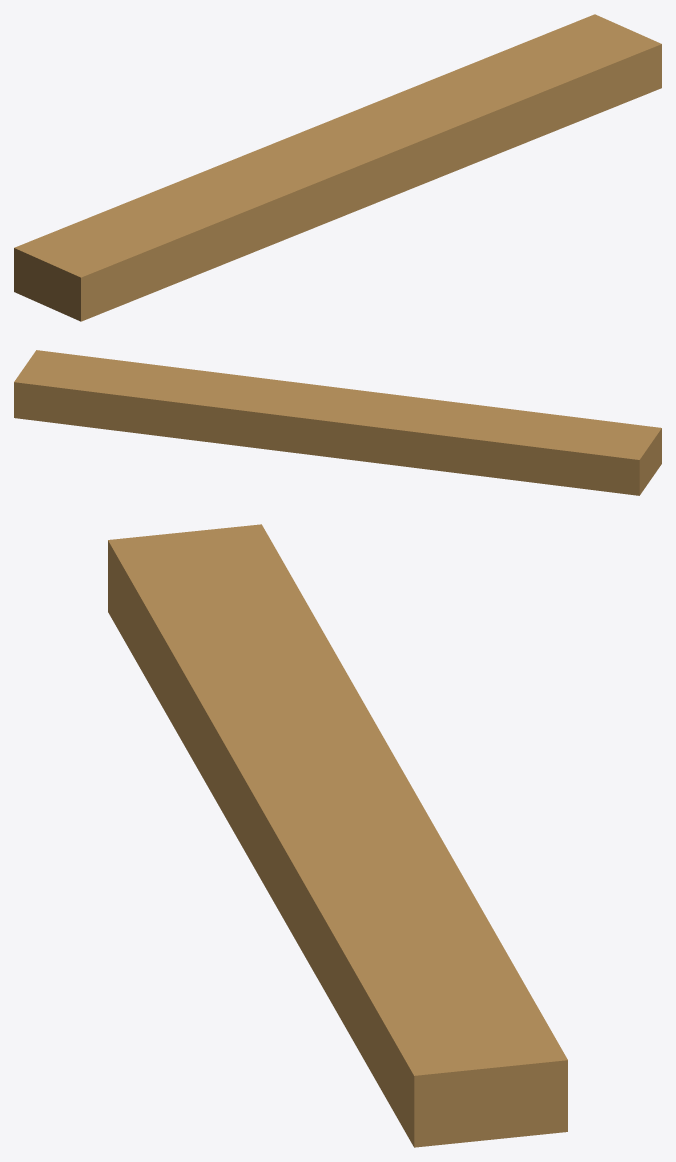
The picture shows the model from 3 angles, top to bottom: view 1: azimuth 30°, elevation 25°; view 2: azimuth 150°, elevation 25°; view 3: azimuth 270°, elevation 25°; orthographic projection. The views are drawn at different scales.
Visible parts, largest first — view 1: __delivery_mesh_5218; view 2: __delivery_mesh_5218; view 3: __delivery_mesh_5218.
Part boxes in pixels (x1,y1,x2,y2): __delivery_mesh_5218: (14, 14, 661, 321); __delivery_mesh_5218: (14, 350, 661, 495); __delivery_mesh_5218: (108, 524, 567, 1147).
Size of the model in its own units: 0.7419 by 0.045 by 0.2616.
